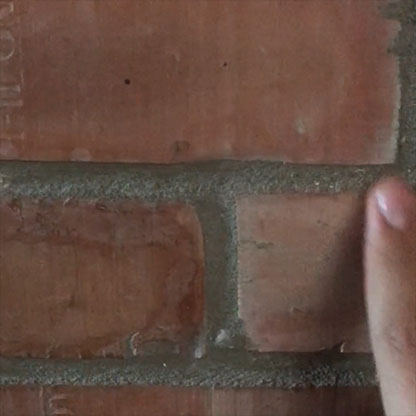fingertip: (359, 168, 416, 243)
